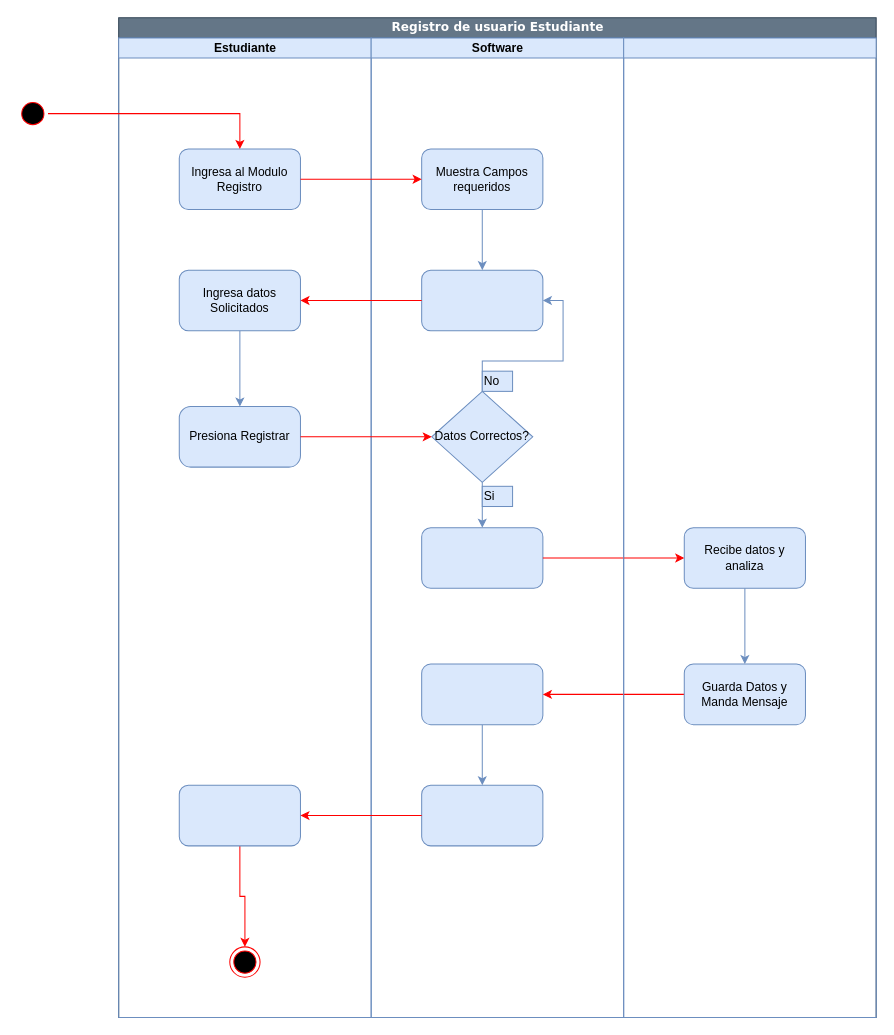
The diagram is 894 pixels wide and 1035 high, and some of its shapes have lost their labels. Each missing label, with the box of its shape:
BD: (623, 37, 876, 1018)
Confirma registro ingresando al Sistema: (421, 663, 543, 725)
Envia Datos: (421, 527, 543, 588)
Muestra Perfil: (421, 784, 543, 846)
Socilita Datos Obligatorios: (421, 269, 543, 331)
Visualiza Perfil: (178, 784, 300, 846)
